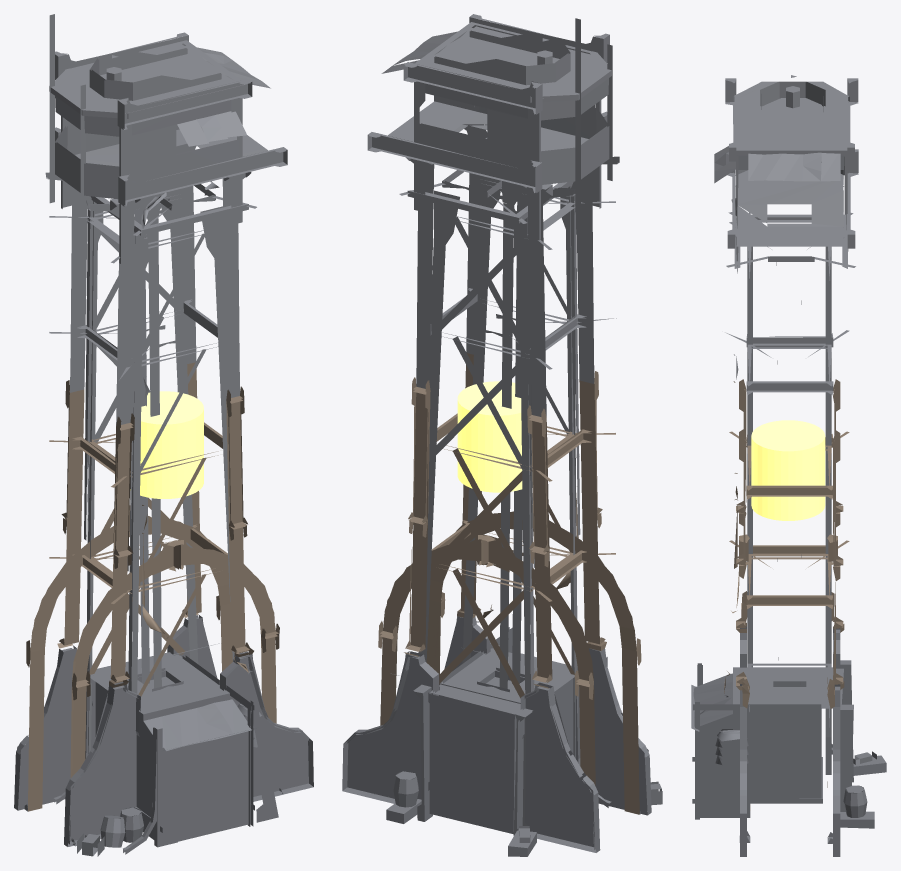
File: guard_station.glb
3 renders of one model, left to right at view 1: azimuth 30°, elevation 25°; view 2: azimuth 150°, elevation 25°; view 3: azimuth 270°, elevation 25°, orthographic. The views are drawn at different scales.
Visible parts, largest first — view 1: guard_station_Building; view 2: guard_station_Building; view 3: guard_station_Building.
Part boxes in pixels (x1,y1,x2,y2): guard_station_Building: (14, 14, 313, 856); guard_station_Building: (342, 14, 662, 856); guard_station_Building: (691, 75, 886, 856).
Size of the model in its own units: 8.66 by 26.78 by 6.34.
